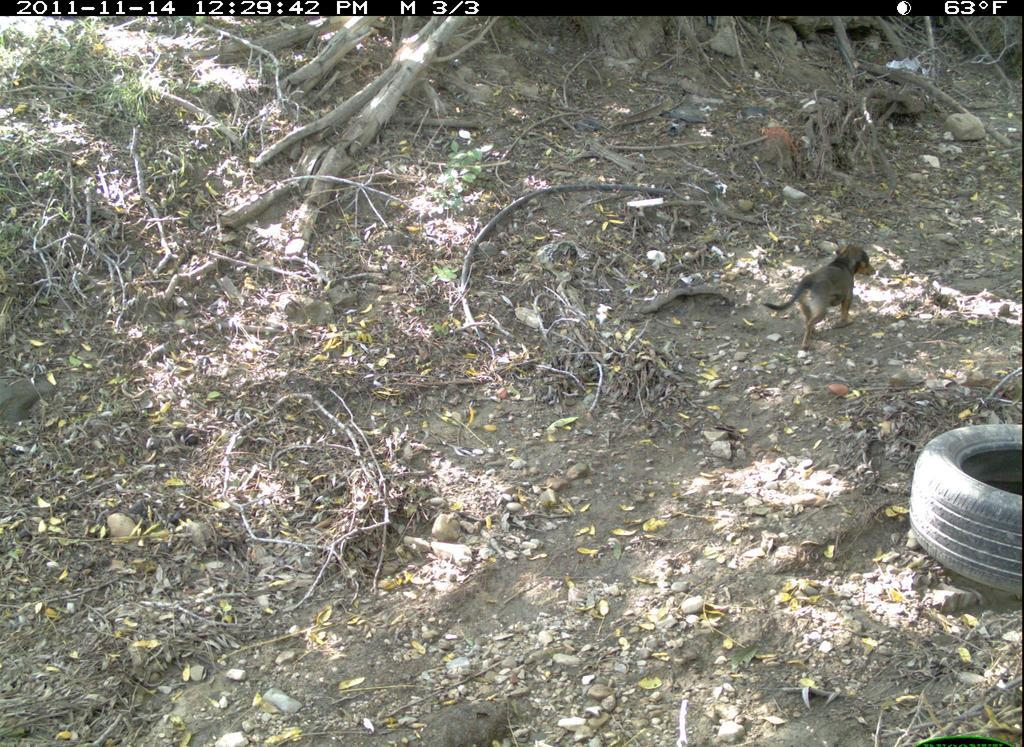dog: (760, 236, 888, 360)
